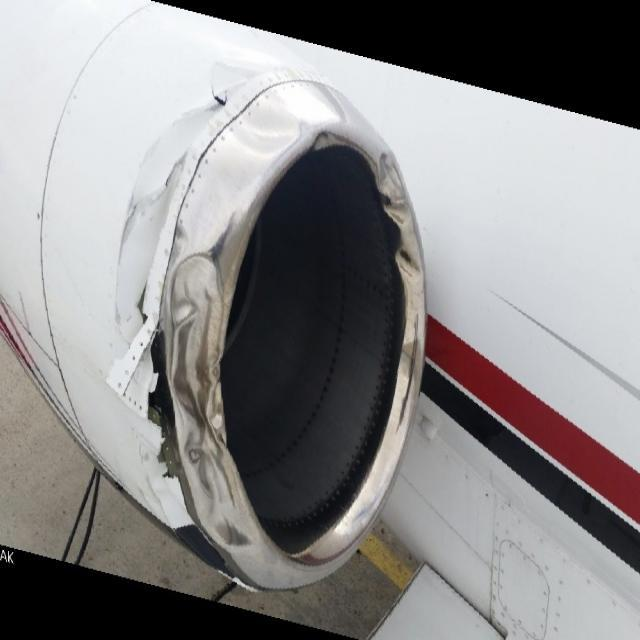dent: (171, 256, 251, 549), (232, 106, 305, 158), (383, 156, 410, 223), (399, 255, 429, 280)
